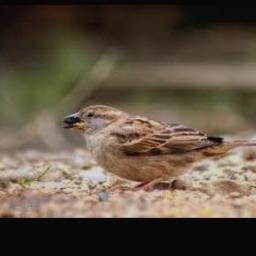Sparrow: (63, 104, 256, 191)
